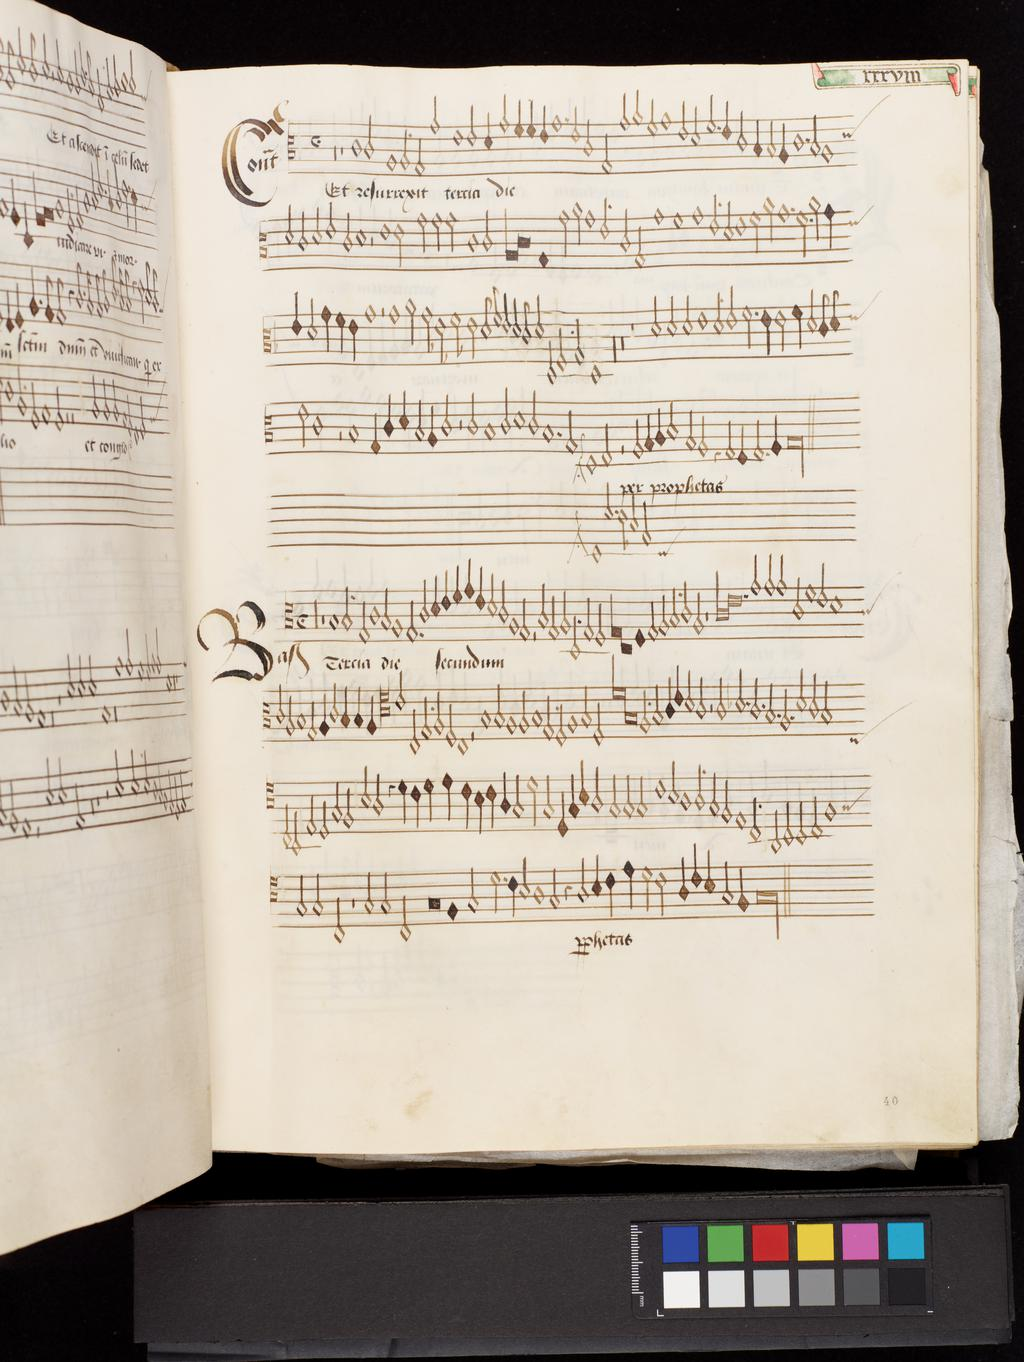c clef_7: (253, 216, 272, 268)
colored semibreve_10: (534, 242, 552, 274)
custos_5: (845, 200, 876, 236)
fusa_5: (708, 209, 725, 241)
l1colored semibreve_9: (501, 205, 512, 267)
l2colored semibreve_7: (516, 229, 530, 255)
minim rest: (366, 210, 376, 274)
minim_10: (632, 217, 648, 268)
minim_2: (569, 195, 585, 251), (763, 195, 777, 249)
minim_3: (557, 203, 573, 259), (443, 205, 459, 256), (414, 207, 429, 256), (430, 205, 444, 256)
minim_4: (746, 204, 763, 254), (798, 204, 810, 268)
minim_5: (392, 217, 406, 270), (323, 195, 337, 244), (597, 210, 612, 240)
minim_6: (282, 198, 297, 251), (311, 201, 325, 249), (724, 201, 736, 254)
minim_7: (296, 202, 310, 258), (341, 203, 355, 258), (811, 190, 825, 241), (480, 205, 494, 253), (622, 198, 631, 254)
point: (711, 180, 725, 210), (609, 195, 618, 214), (807, 212, 819, 225), (790, 202, 798, 219)
semibreve_3: (583, 200, 599, 235), (689, 202, 707, 233), (777, 191, 790, 226), (655, 200, 666, 238)
semibreve_4: (669, 205, 686, 235)
semibreve_5: (736, 203, 749, 245), (376, 216, 393, 244)
semibreve_6: (355, 222, 370, 249)
semibreve_7: (464, 226, 482, 258)
semiminim_3: (826, 196, 838, 265)
